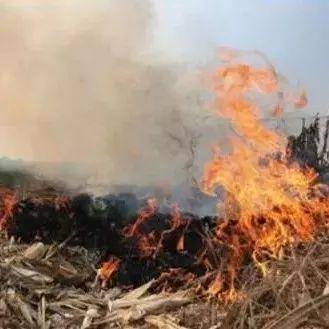fire: (183, 53, 327, 259)
